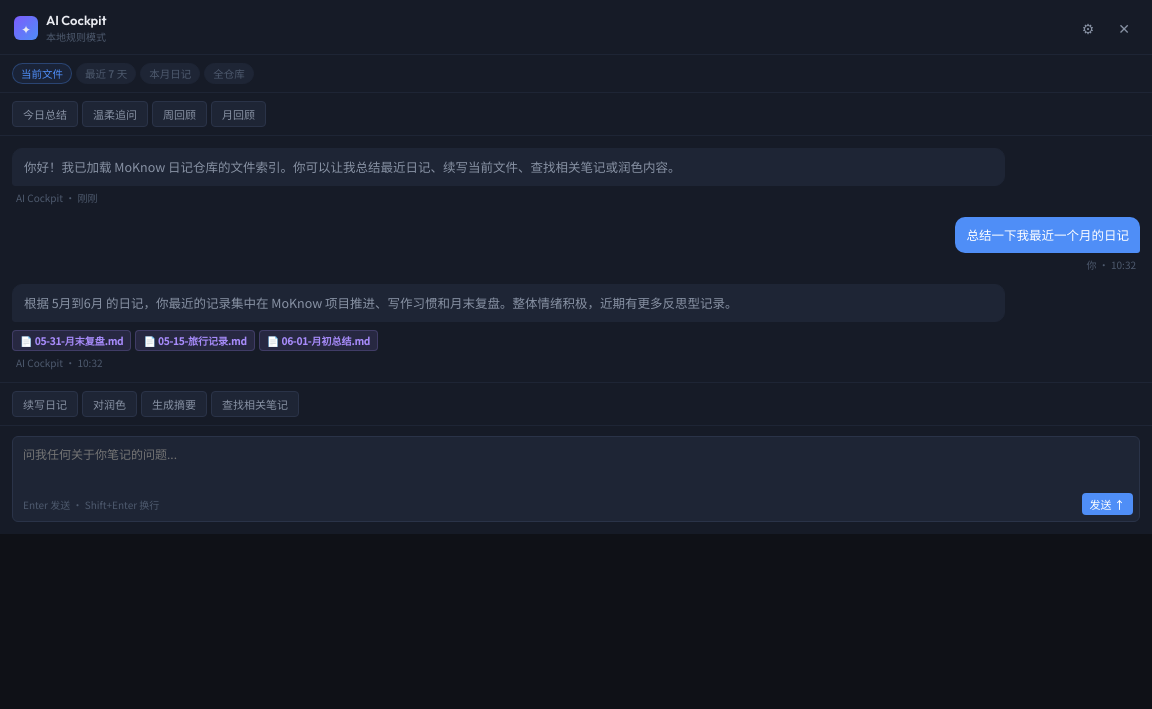
Test case: AiCockpit › saves OpenAI-compatible provider settings from the panel
The image size is (1152, 709).
Click the button named "AI 设置" at (1088, 28), box [1074, 14, 1102, 42]
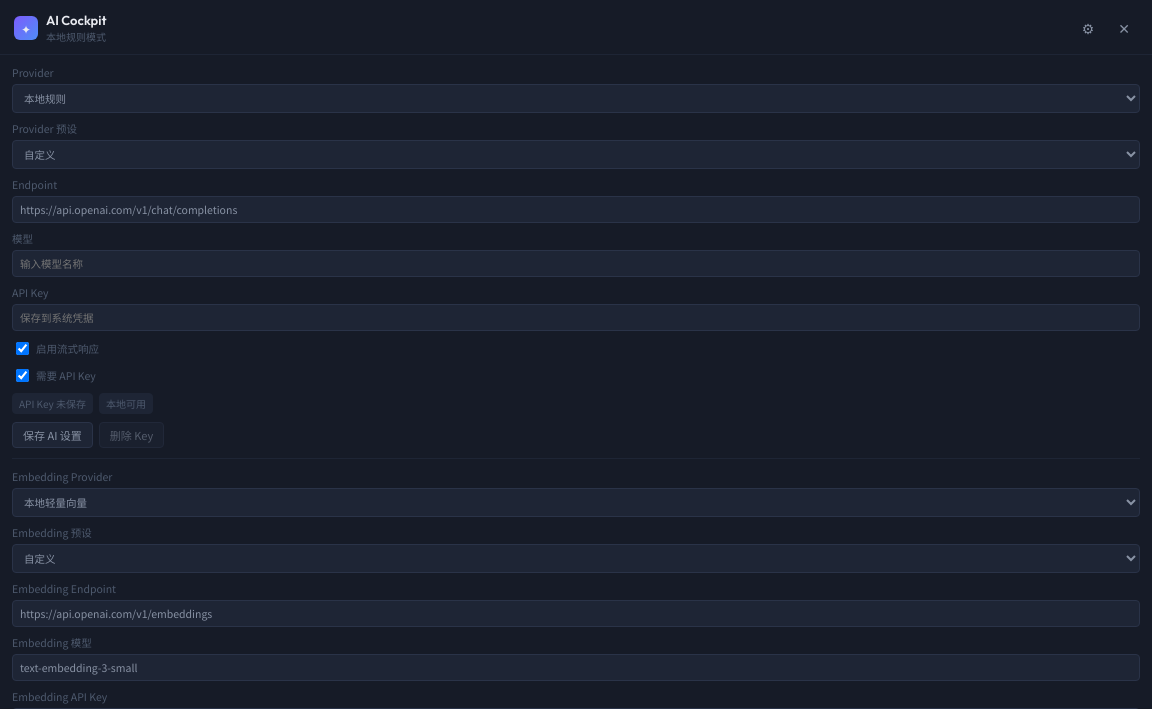
Select "OpenAI-compatible" in the dropdown named "AI Provider" at (576, 98), box [12, 84, 1140, 113]
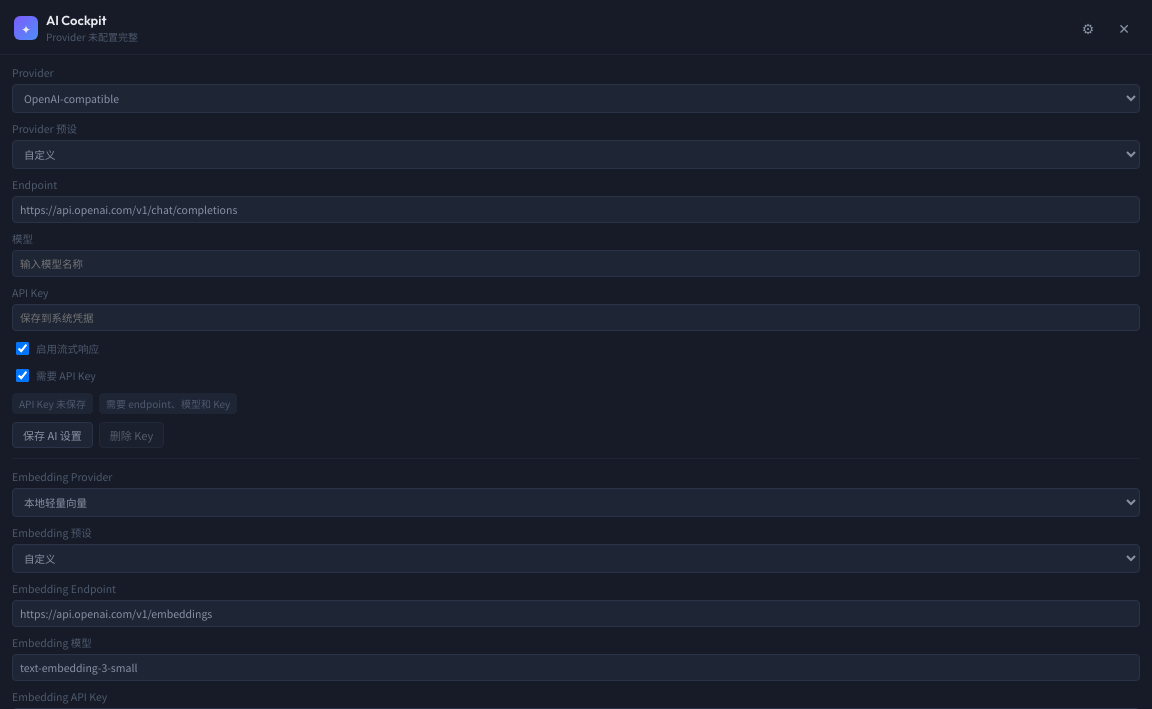
Replace the text in the field named "AI Endpoint" with "https://api.example.com/v1/chat/completions" at (576, 210), box [12, 196, 1140, 223]
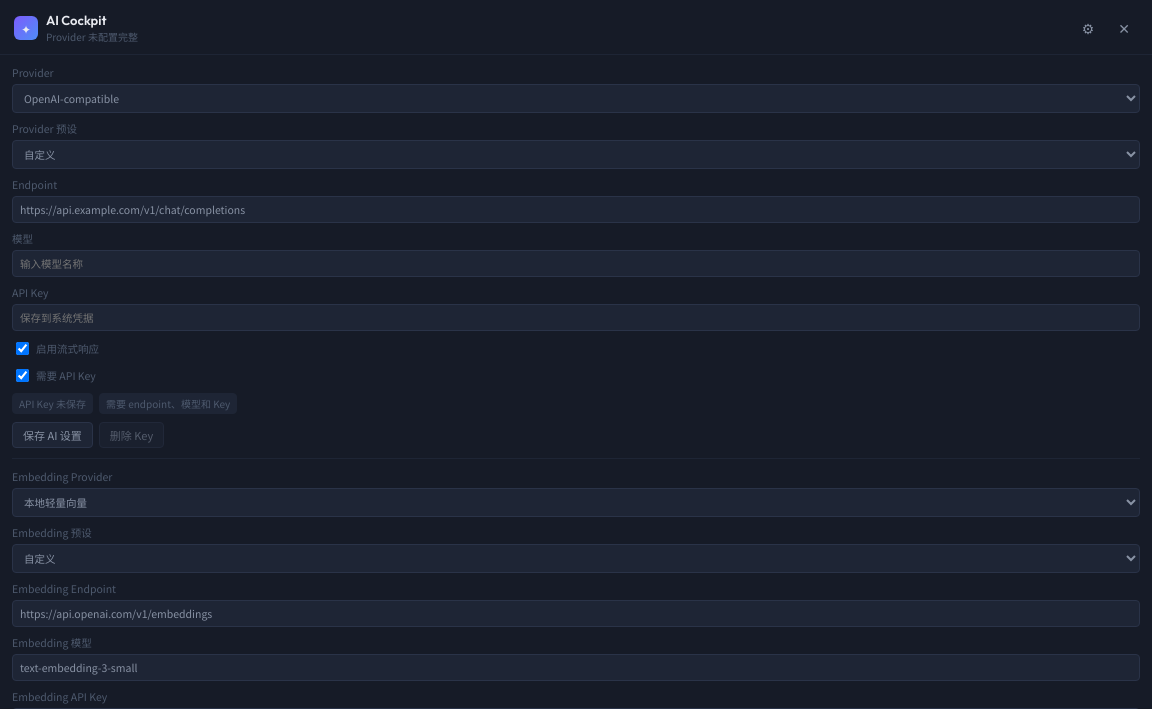
Type "test-model" into the field named "AI 模型" at (576, 264), box [12, 250, 1140, 277]
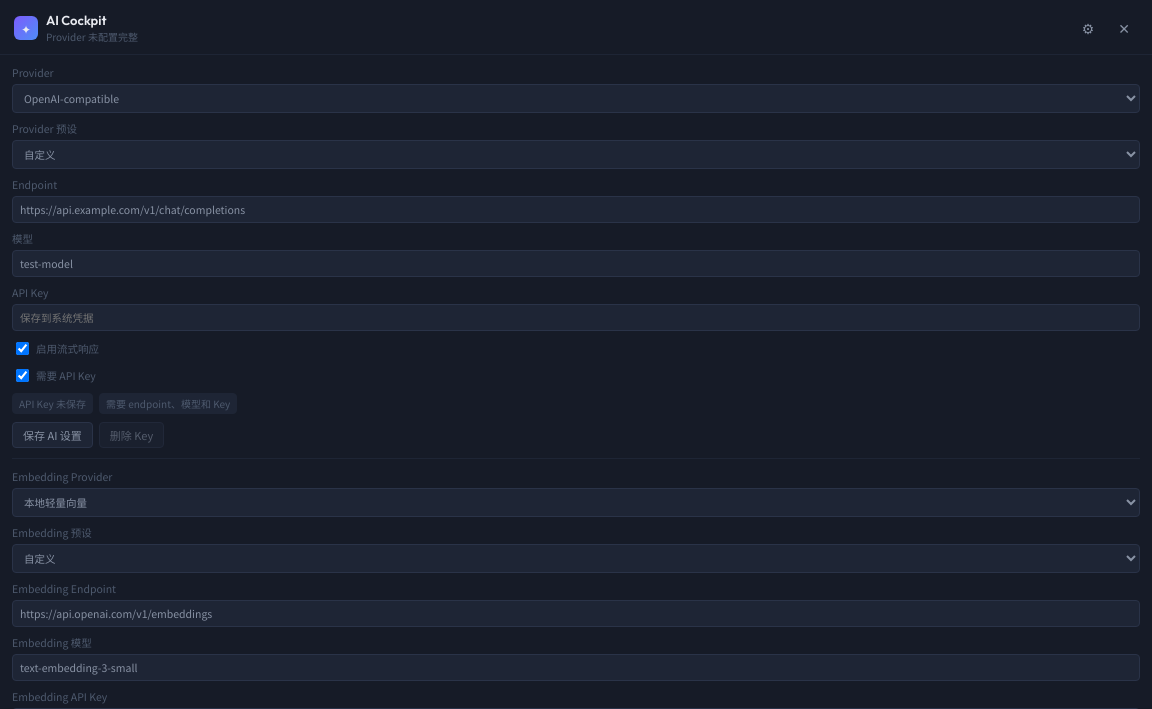
Type "sk-test" into the password field named "AI API Key" at (576, 318), box [12, 304, 1140, 331]
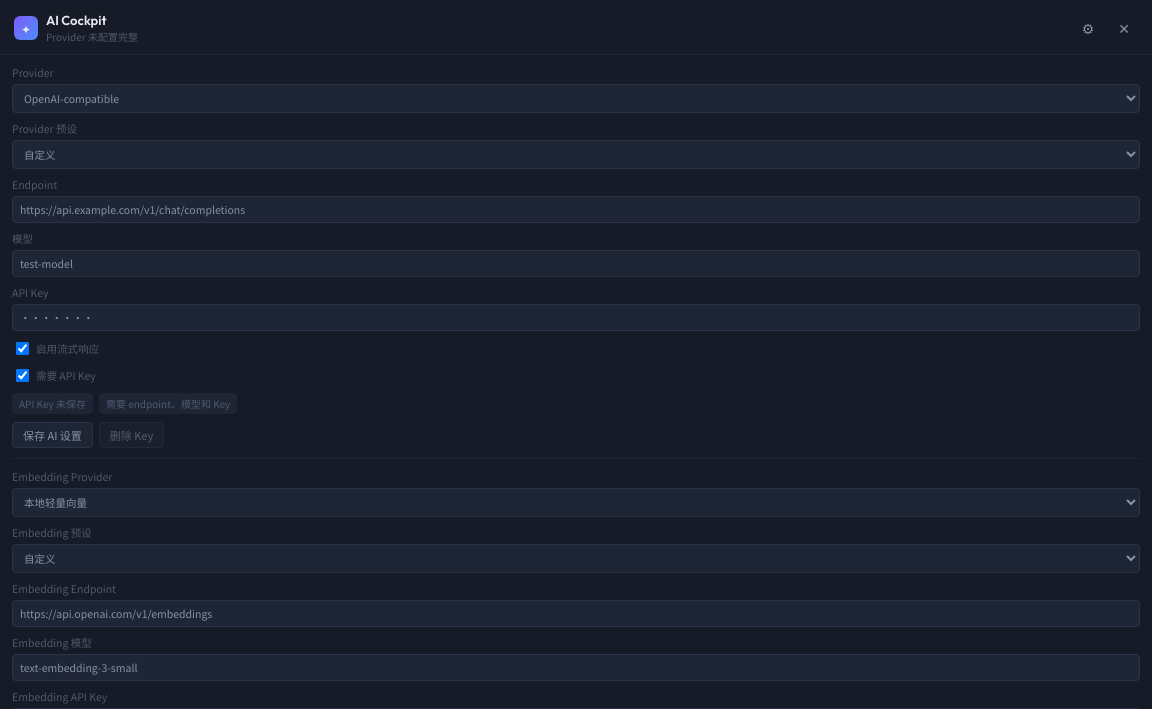
Click the button "保存 AI 设置" at (52, 435), box [12, 422, 93, 448]
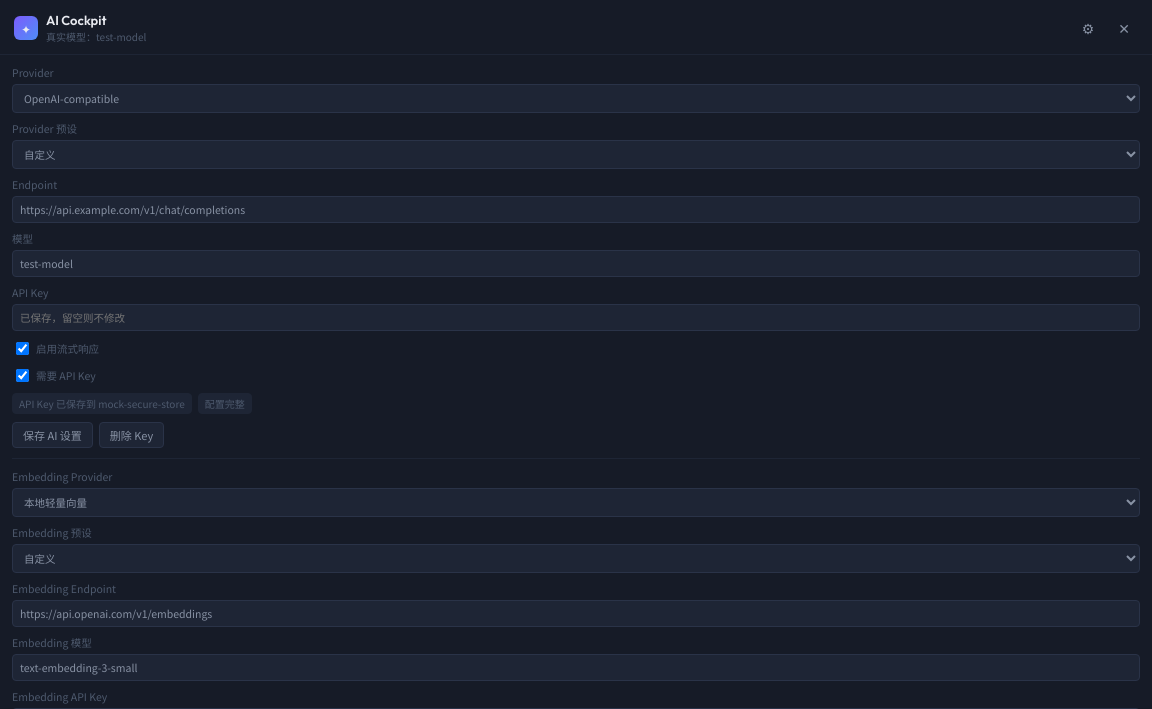
Now the text "API Key 已保存到 mock-secure-store" is shown, box [12, 393, 192, 414]
